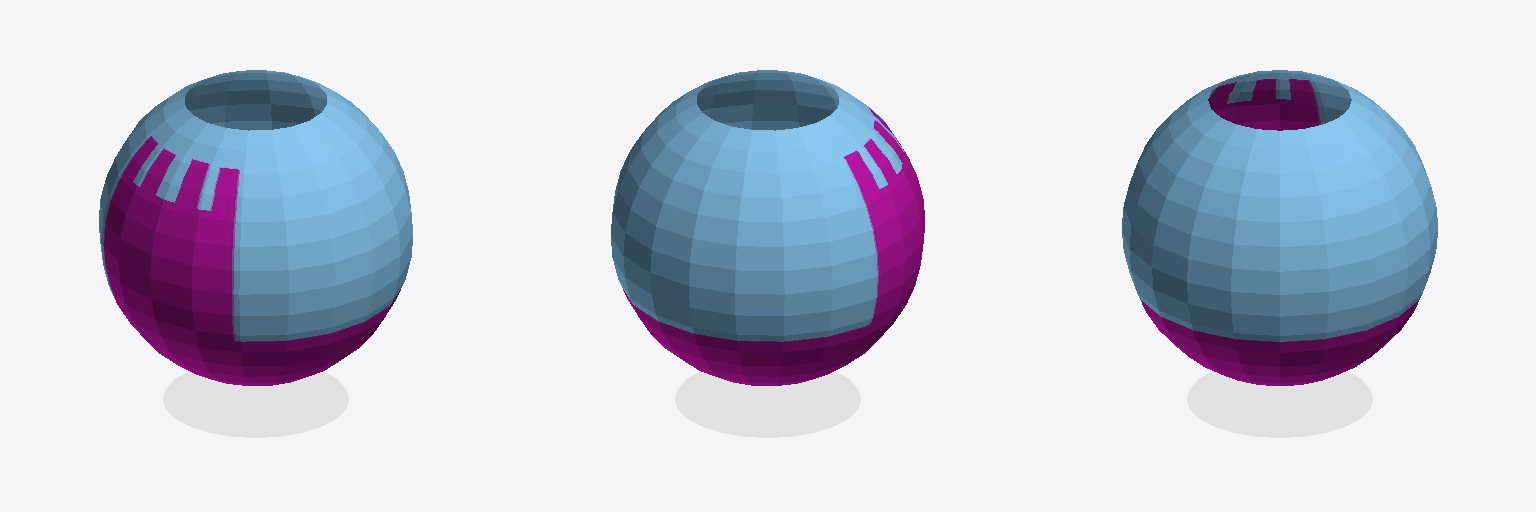
3 views of the same model, side by side, from view 1: azimuth 30°, elevation 25°; view 2: azimuth 150°, elevation 25°; view 3: azimuth 270°, elevation 25° (orthographic).
Parts seen in each view (by area): view 1: pSphere1, pDisc1; view 2: pSphere1, pDisc1; view 3: pSphere1, pDisc1.
Part boxes in pixels (left/top/right/bottom): pSphere1: left=99, top=70, right=412, bottom=385; pDisc1: left=163, top=371, right=348, bottom=437; pSphere1: left=611, top=70, right=924, bottom=385; pDisc1: left=675, top=371, right=860, bottom=437; pSphere1: left=1122, top=70, right=1437, bottom=385; pDisc1: left=1187, top=371, right=1372, bottom=437.
Bounding box in the file's own units: 200 × 254 × 200.
5 materials, 3 textured.